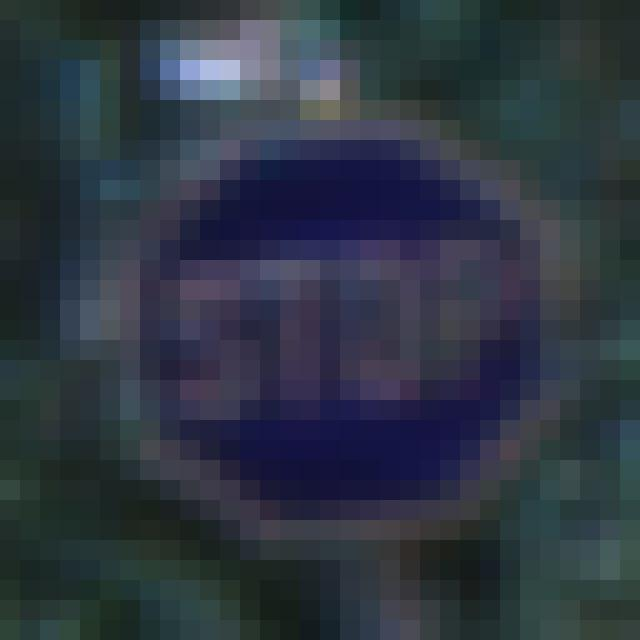STOP: (127, 133, 558, 520)
